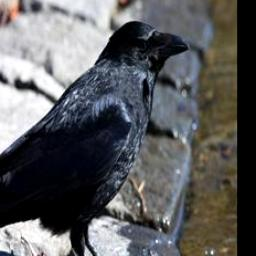Crow: (0, 19, 194, 256)
